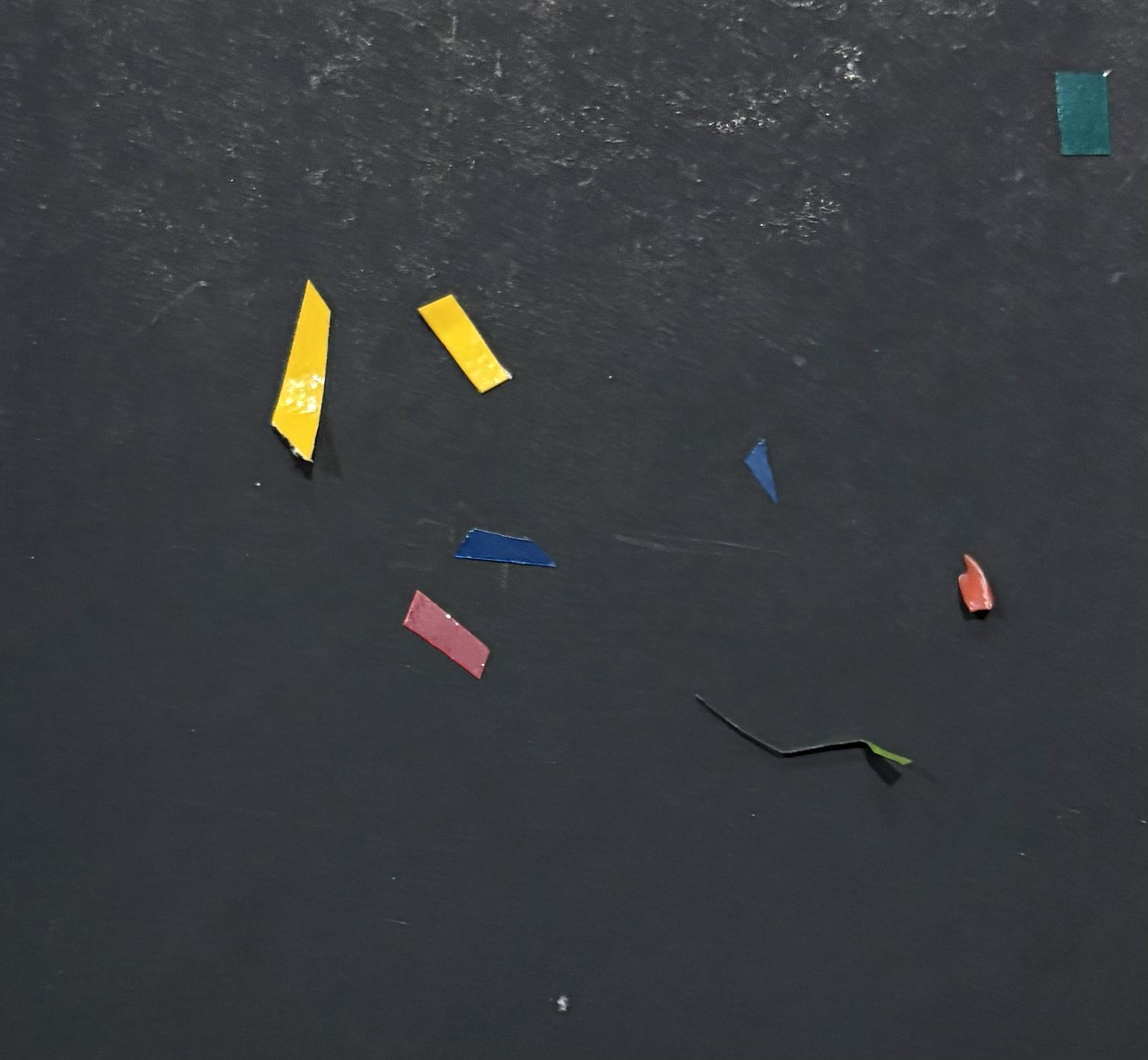Microplastic Particle: (695, 695, 911, 766), (271, 279, 340, 479), (418, 294, 512, 393), (404, 590, 489, 678), (1055, 71, 1111, 156), (455, 528, 556, 567), (957, 553, 994, 618), (744, 439, 779, 504), (555, 995, 569, 1012), (1109, 272, 1126, 284), (255, 482, 260, 486)
